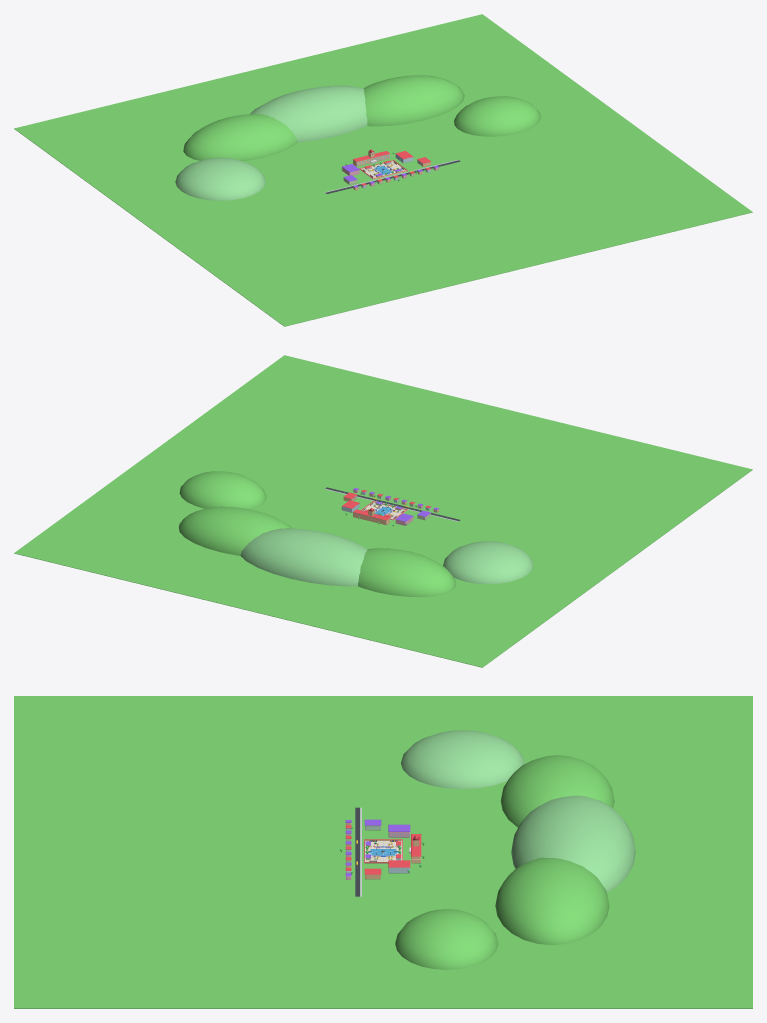
Rendered from escola.glb.
The picture shows the model from 3 angles, top to bottom: view 1: azimuth 30°, elevation 25°; view 2: azimuth 150°, elevation 25°; view 3: azimuth 270°, elevation 25°; orthographic projection. The views are drawn at different scales.
Visible parts, largest first — view 1: Visual; view 2: Visual; view 3: Visual.
Part boxes in pixels (bbox=[...]): Visual: bbox=[14, 14, 752, 326]; Visual: bbox=[14, 355, 752, 667]; Visual: bbox=[14, 696, 752, 1008].
Size of the model in its own units: 1400 by 160 by 1400.
